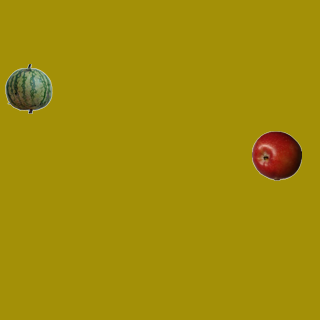Apple Braeburn: (251, 130, 301, 180)
Watermelon: (3, 63, 53, 113)
